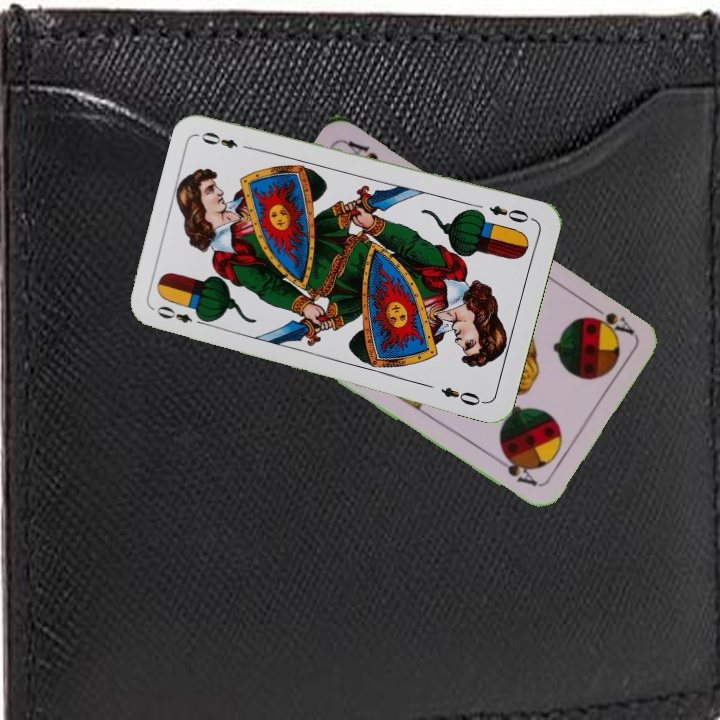EO: (152, 301, 209, 328), (485, 201, 532, 226)
SA: (583, 298, 636, 338)
